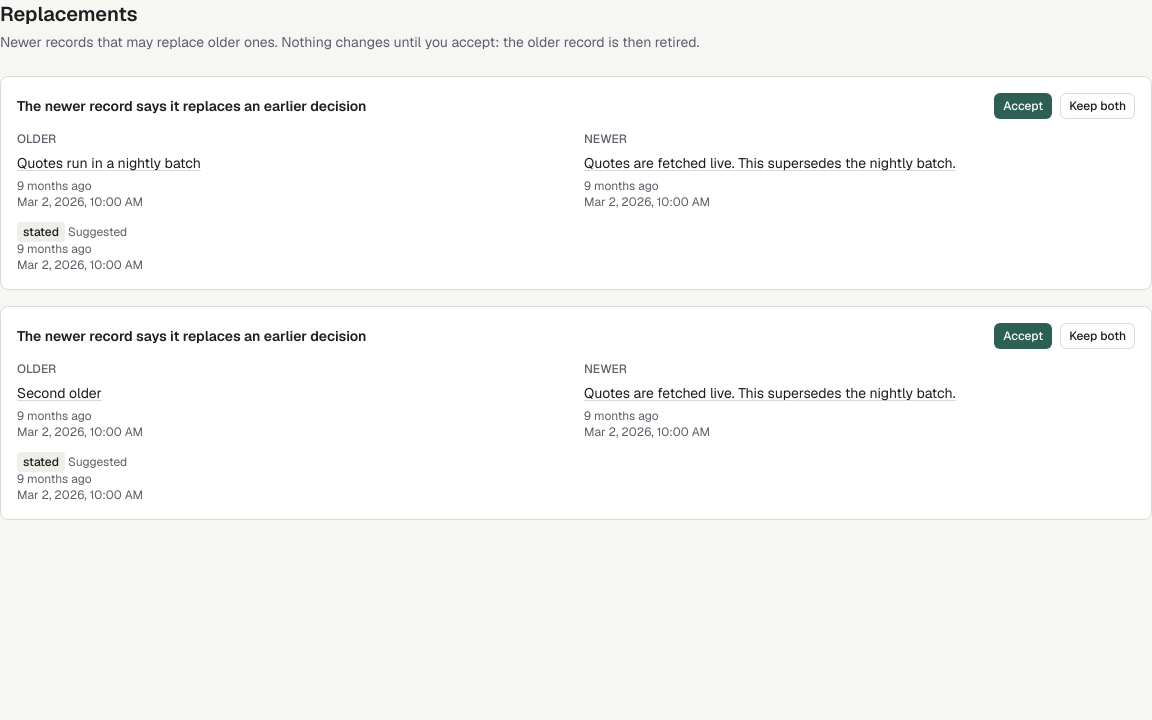
Scenario: destructive actions ask first › accepting a replacement asks first; dismissing does not
This screenshot has width=1152, height=720.
Expected: the text "Second older" is shown, [17,384,102,402]
Click the 1st button "Accept" at (1023, 106), box [994,93,1052,119]
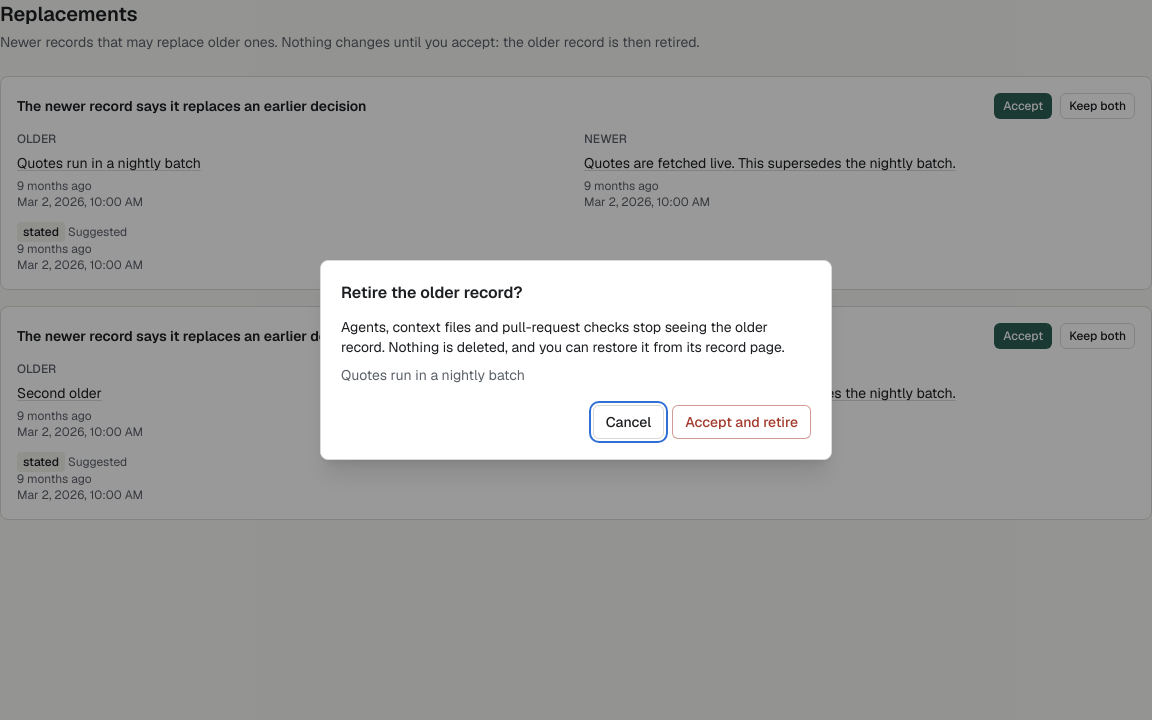
Now the dialog shows "Quotes run in a nightly batch", box [341,366,525,384]
Click the button "Cancel" at (628, 422), box [593,405,664,439]
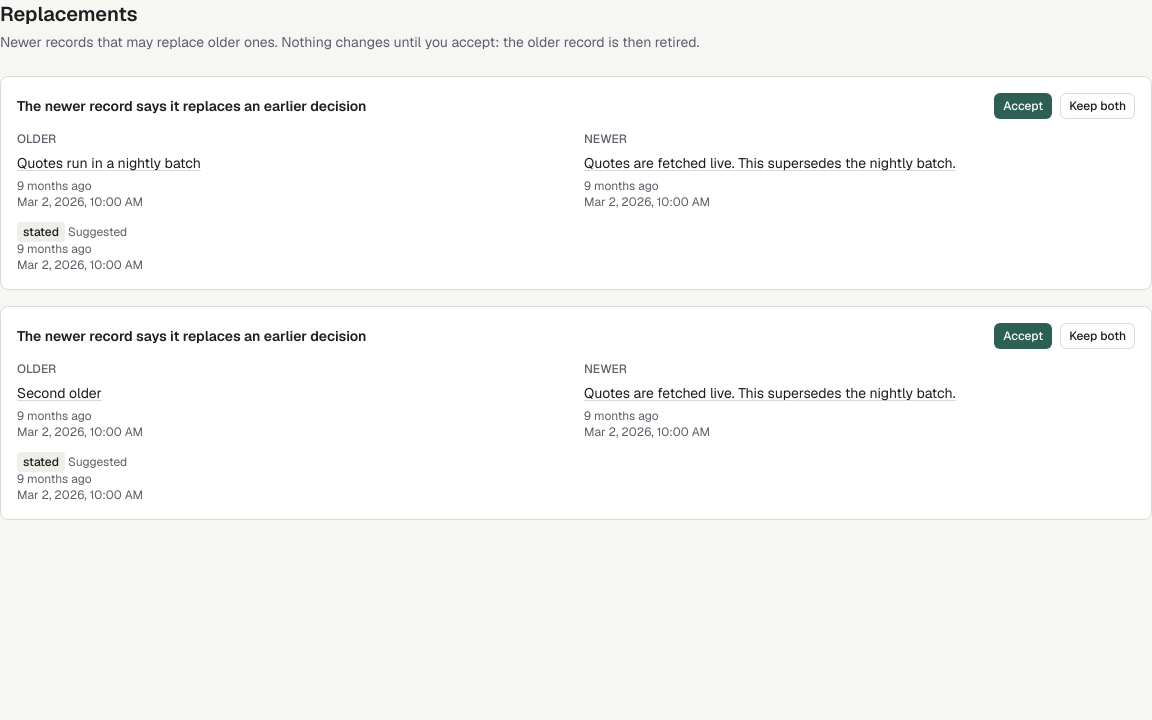
Now the dialog is gone
Click the 1st button "Accept" at (1023, 106), box [994,93,1052,119]
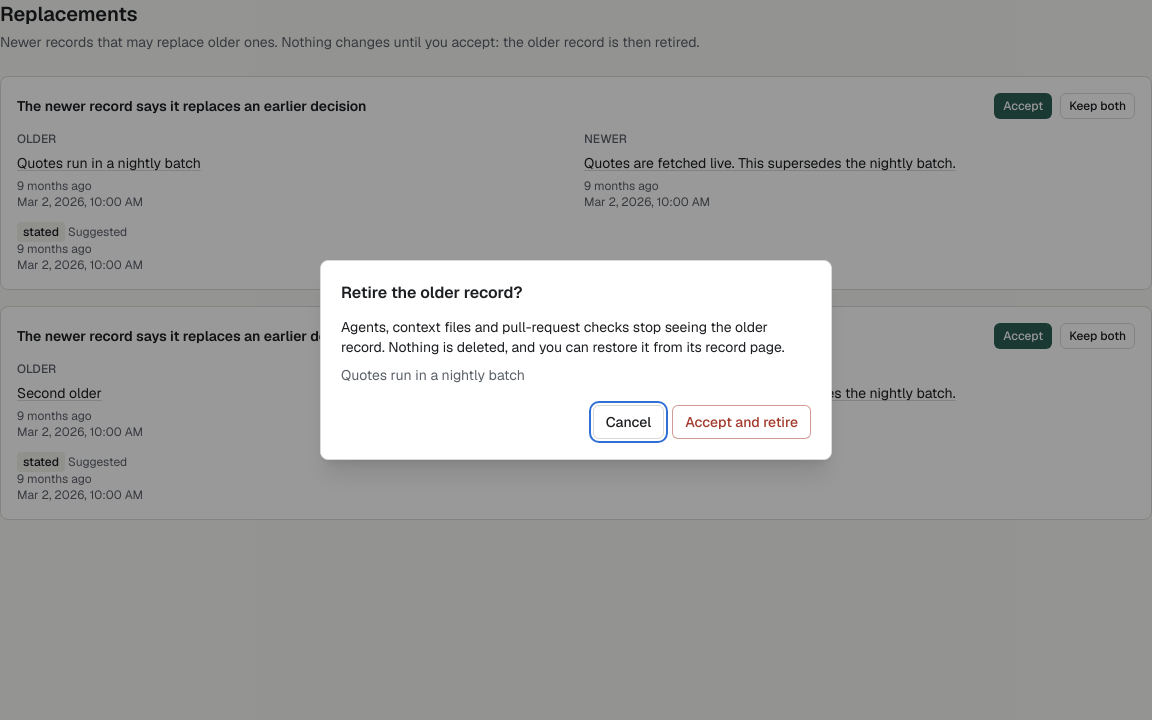
Click the button "Accept and retire" at (742, 422), box [672,405,811,439]
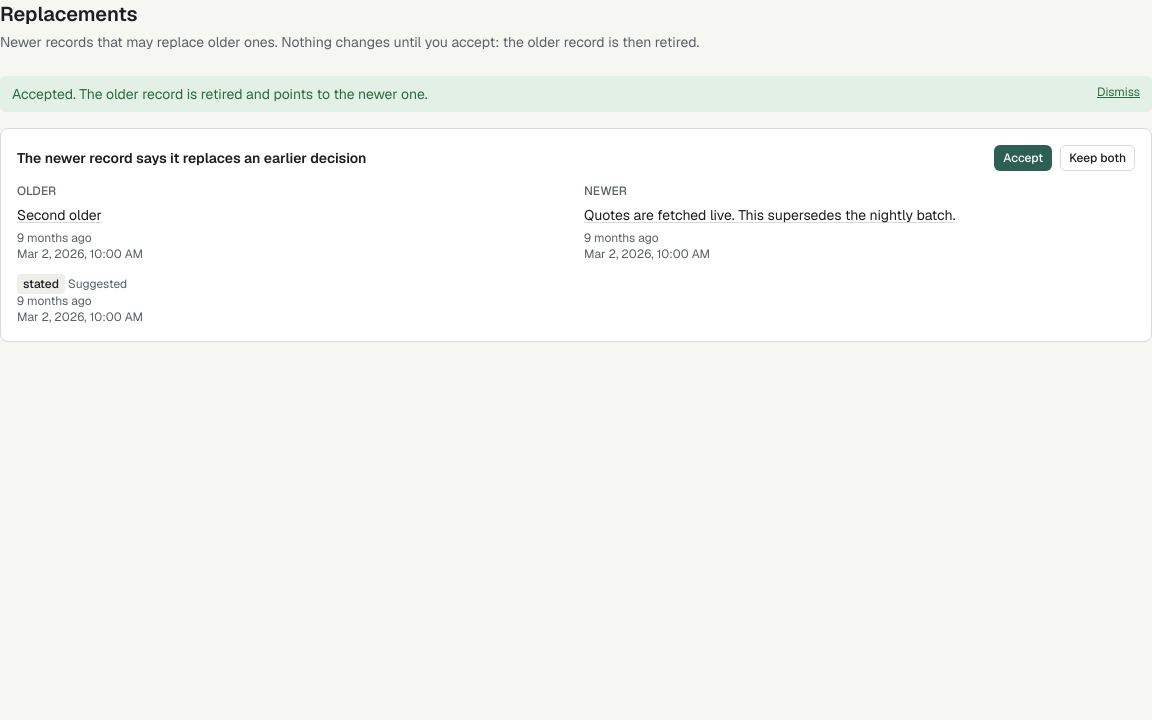
Now the dialog is gone
Now the text "older record is retired" is shown, box [12,85,428,103]
Click the button "Keep both" at (1098, 158), box [1060,145,1135,171]
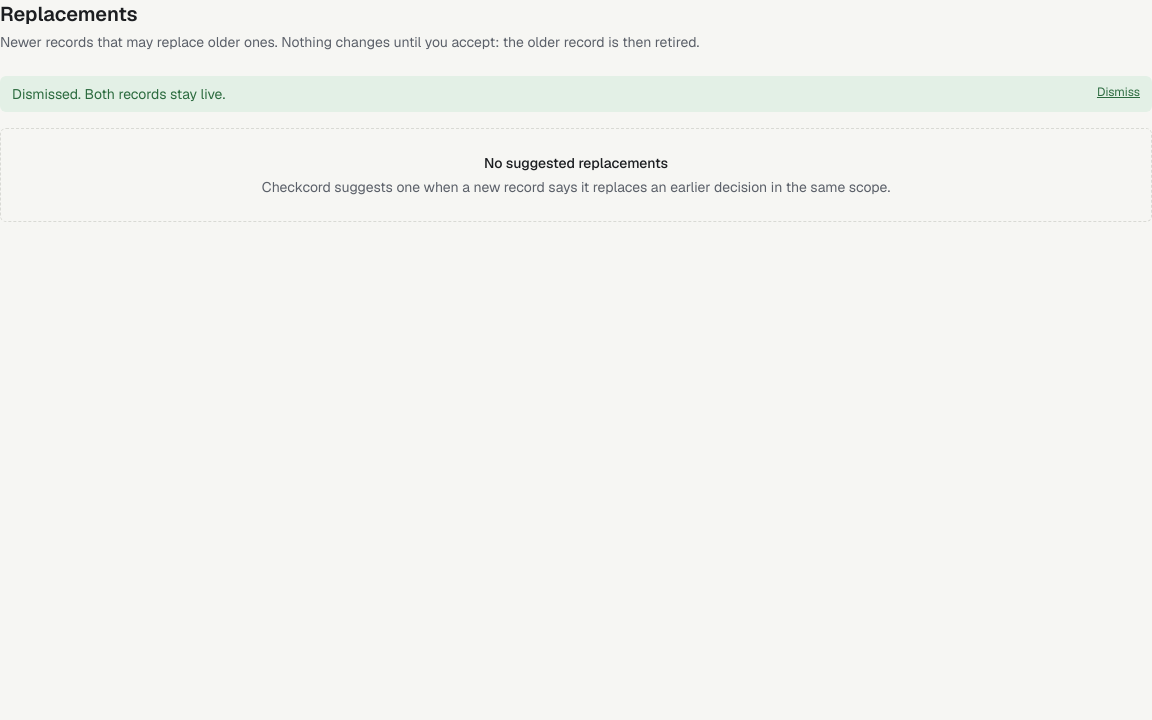
Now the text "No suggested replacements" is shown, box [484,154,668,172]
